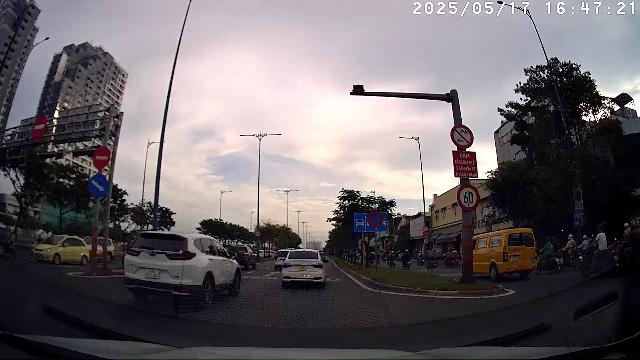127-toc-do-toi-da-60: (456, 185, 480, 212)
